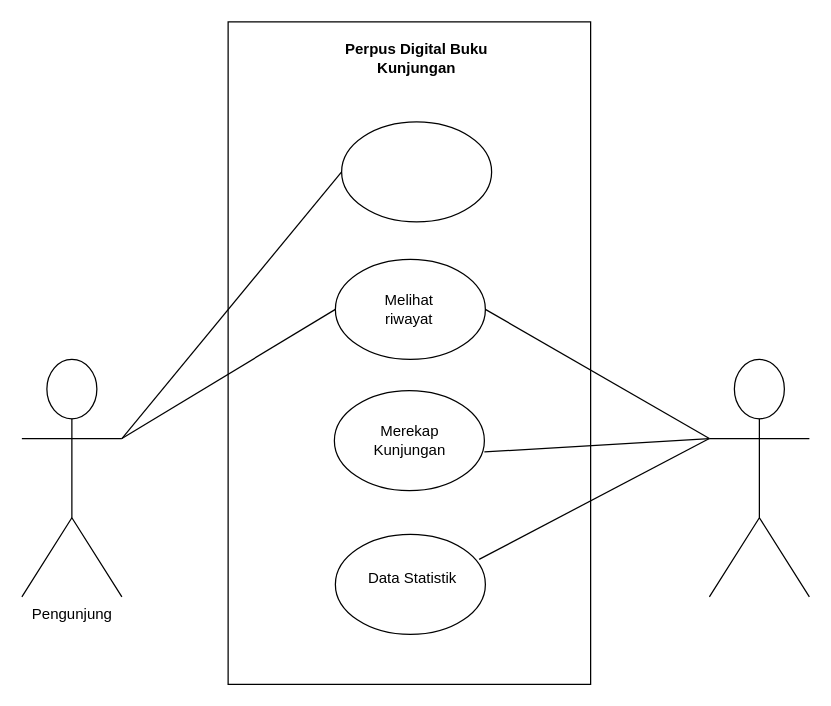
The diagram is 831 pixels wide and 706 high, and some of its shapes have lost their labels. Here are the shapes that lost their labels. From the top down, the box of each, then its label:
(340, 121, 492, 222): Pengisian buku pengunjung
(708, 358, 809, 597): Pustakawan
